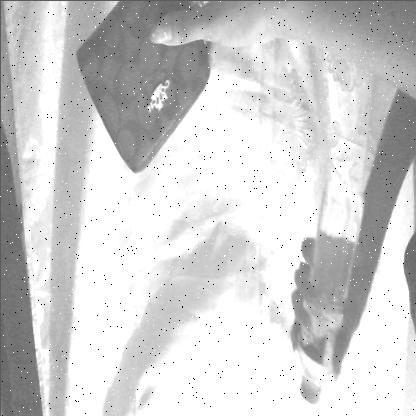Plastic Bottle: (293, 150, 373, 415)
